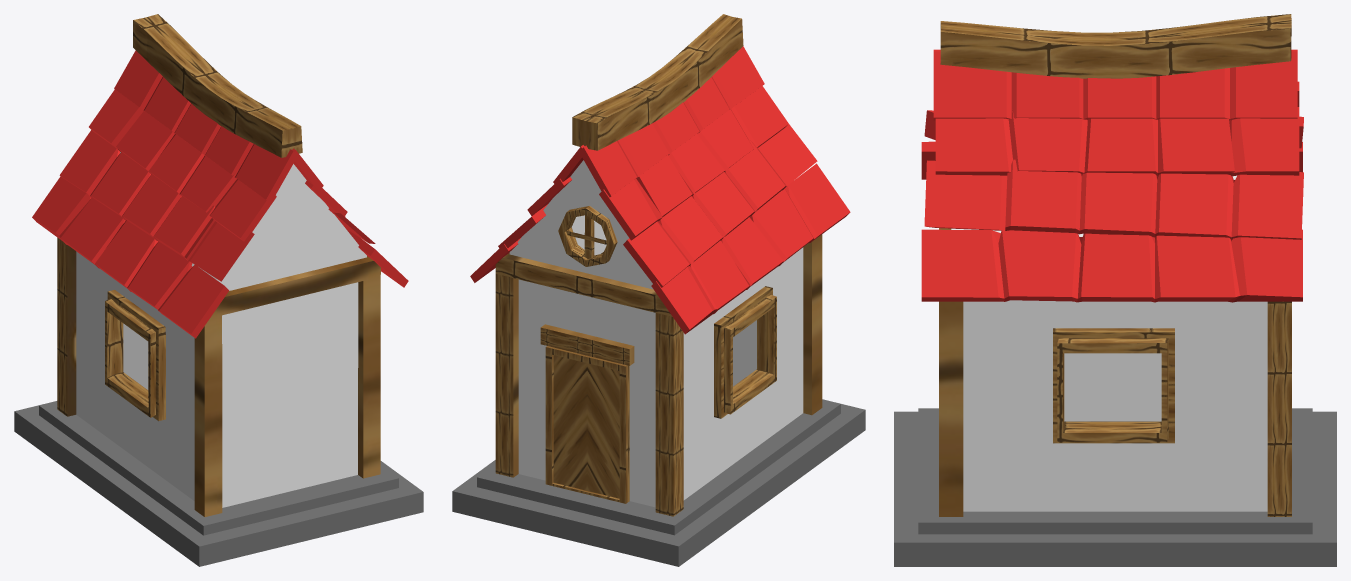
The model's file is cartoon-house-v2.fbx.
The picture shows the model from 3 angles, left to right: view 1: azimuth 30°, elevation 25°; view 2: azimuth 150°, elevation 25°; view 3: azimuth 270°, elevation 25°; orthographic projection. The views are drawn at different scales.
Parts seen in each view (by area): view 1: Cube; view 2: Cube; view 3: Cube.
Part boxes in pixels (<box>): Cube: <box>14,14,423,566</box>; Cube: <box>452,14,865,566</box>; Cube: <box>894,14,1336,566</box>.
Bounding box in the file's own units: 566 × 967 × 808.
